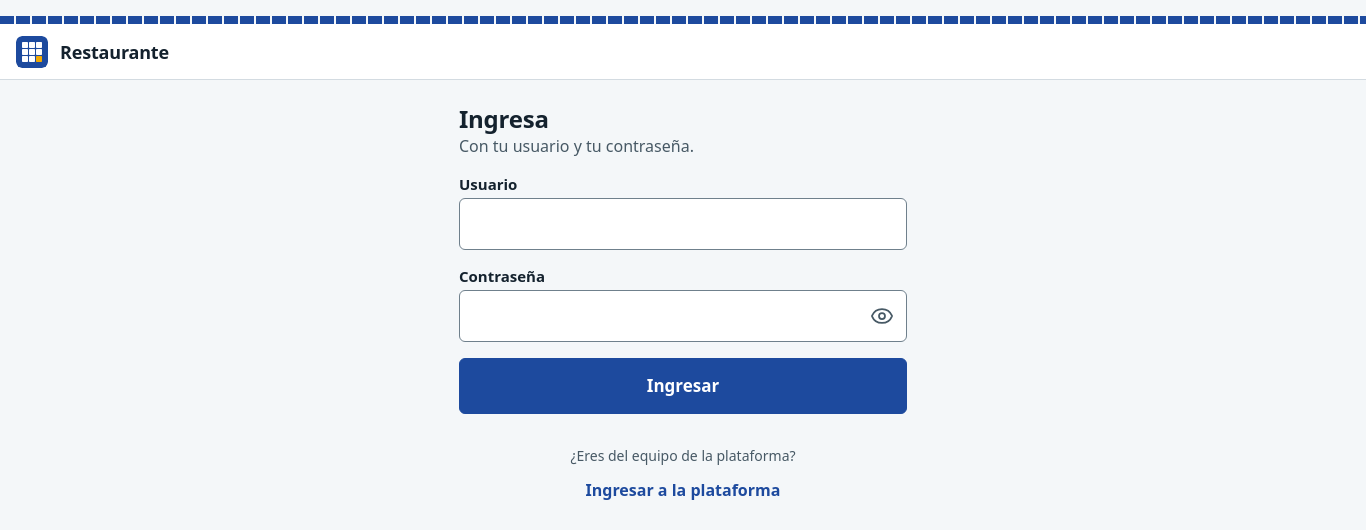
ingreso con usuario y contraseña › con credenciales incorrectas dice el problema y la salida, y vacía la contraseña
(page scrolled)
Type "marta" into the field labelled "Usuario" at (683, 224), box [460,200,906,248]
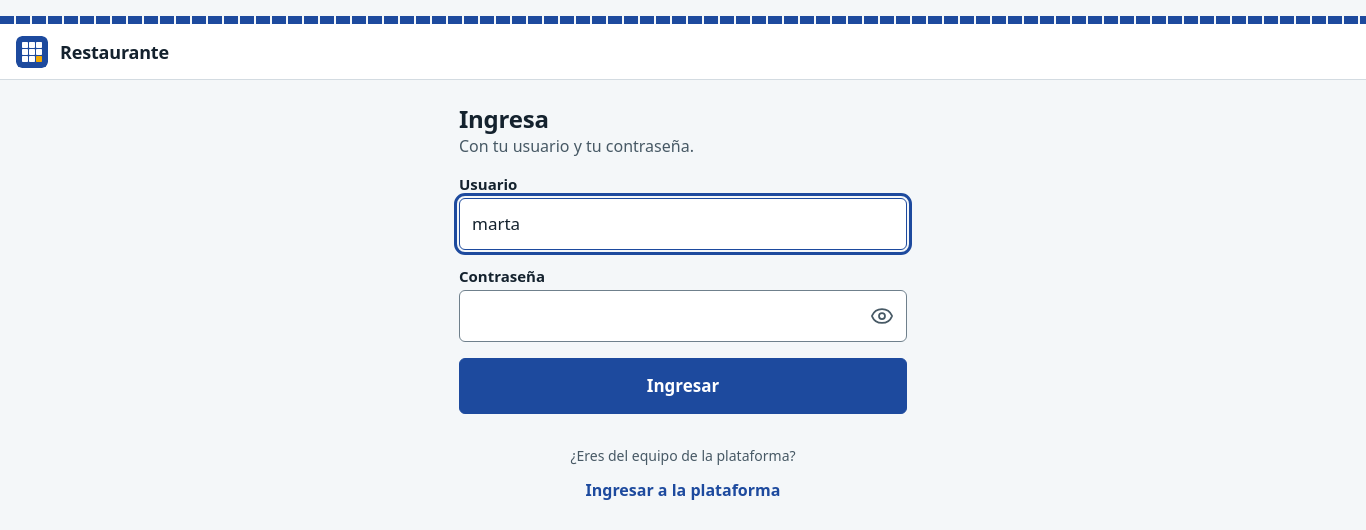
Type "mala" into the password field labelled "Contraseña" at (659, 316), box [460,292,858,340]
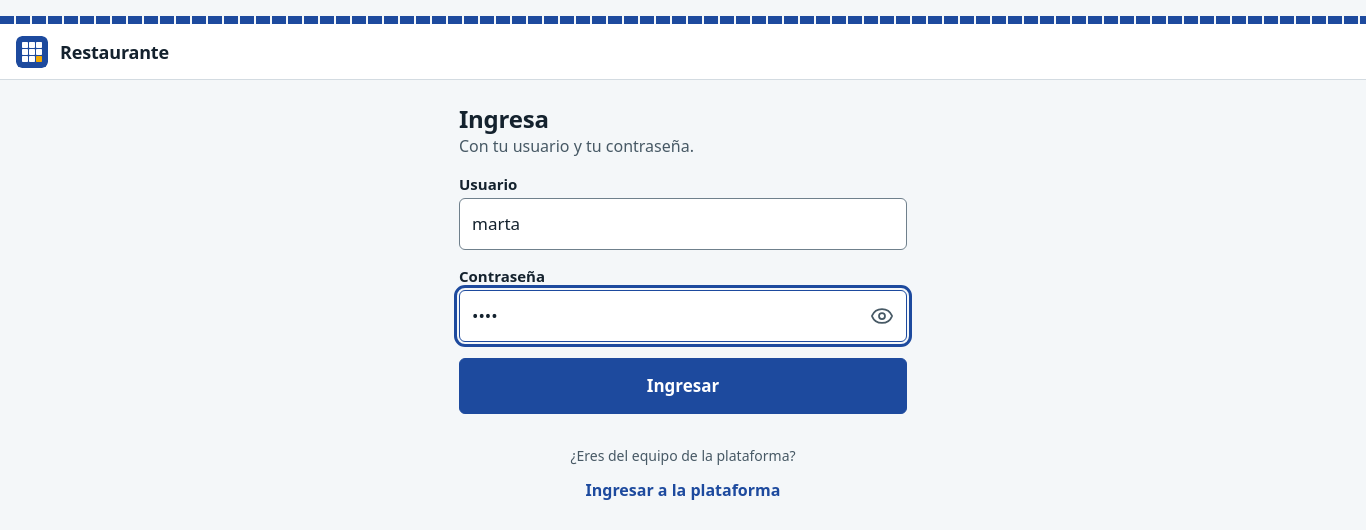
Click the button "Ingresar" at (683, 386), box [459,358,907,414]
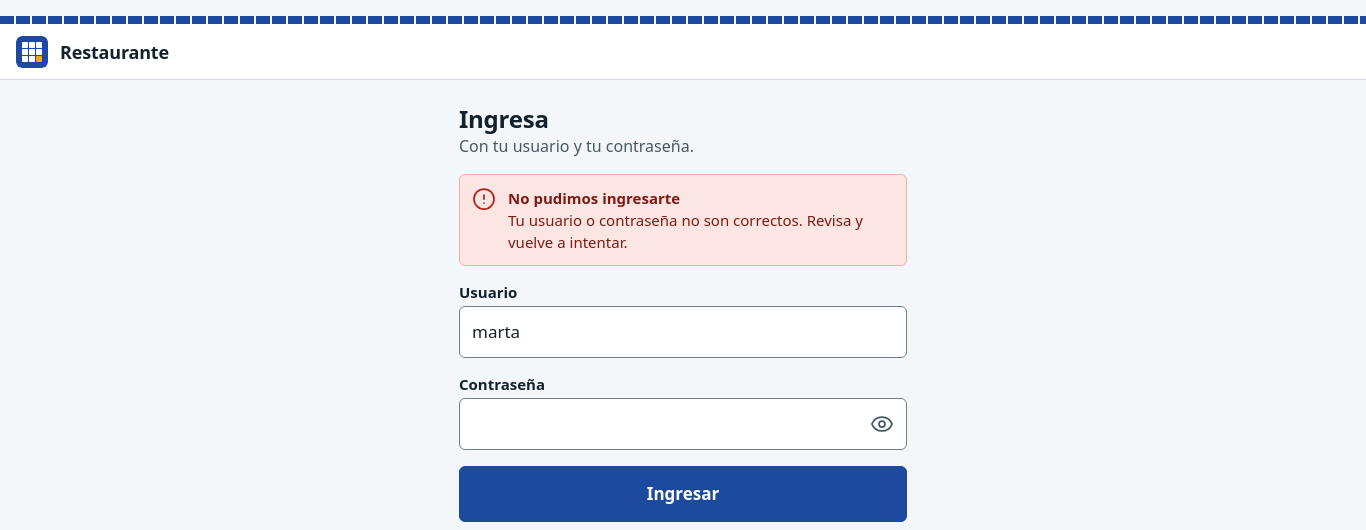
Check: the message shows "No pudimos ingresarte", box [508,188,680,208]
Check: the message shows "Tu usuario o contraseña no son correctos. Revisa y vuelve a intentar.", box [508,210,863,252]
Check: the password field labelled "Contraseña" is empty, box [460,400,858,448]
